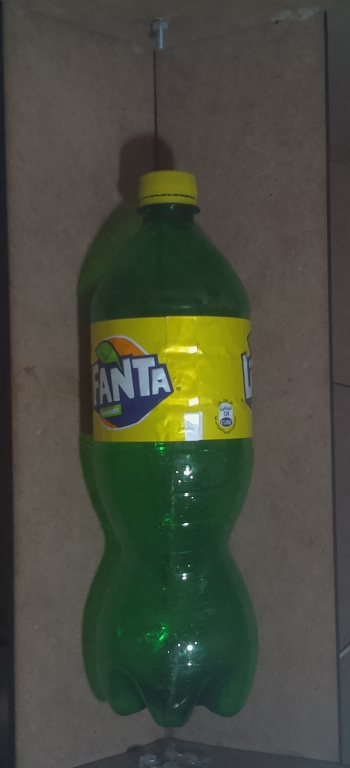Bouteille_1L: (71, 163, 270, 733)
